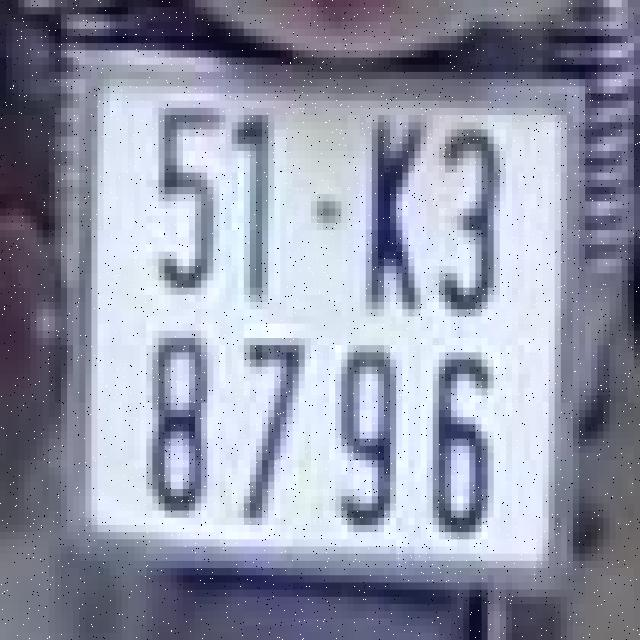1: (226, 94, 280, 309)
3: (442, 111, 515, 313)
5: (143, 83, 229, 291)
6: (414, 324, 506, 539)
7: (234, 324, 302, 532)
8: (137, 309, 210, 518)
9: (323, 320, 408, 543)
K: (359, 104, 426, 313)
